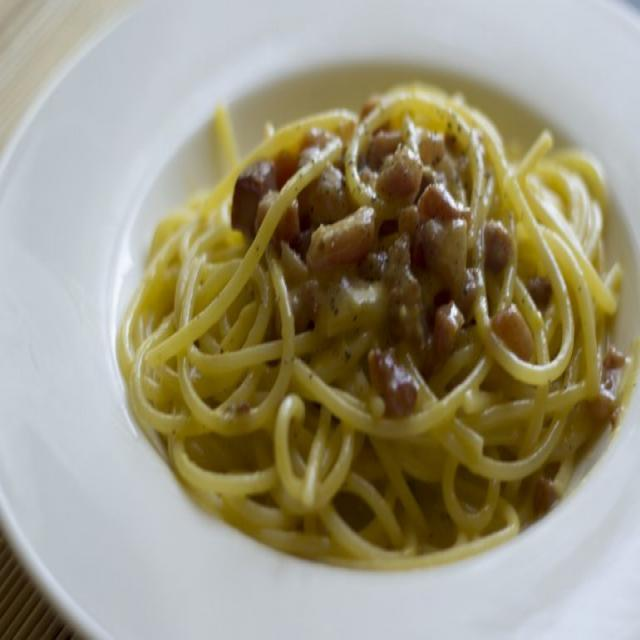Pasta with carbonara sauce: (120, 42, 626, 554)
